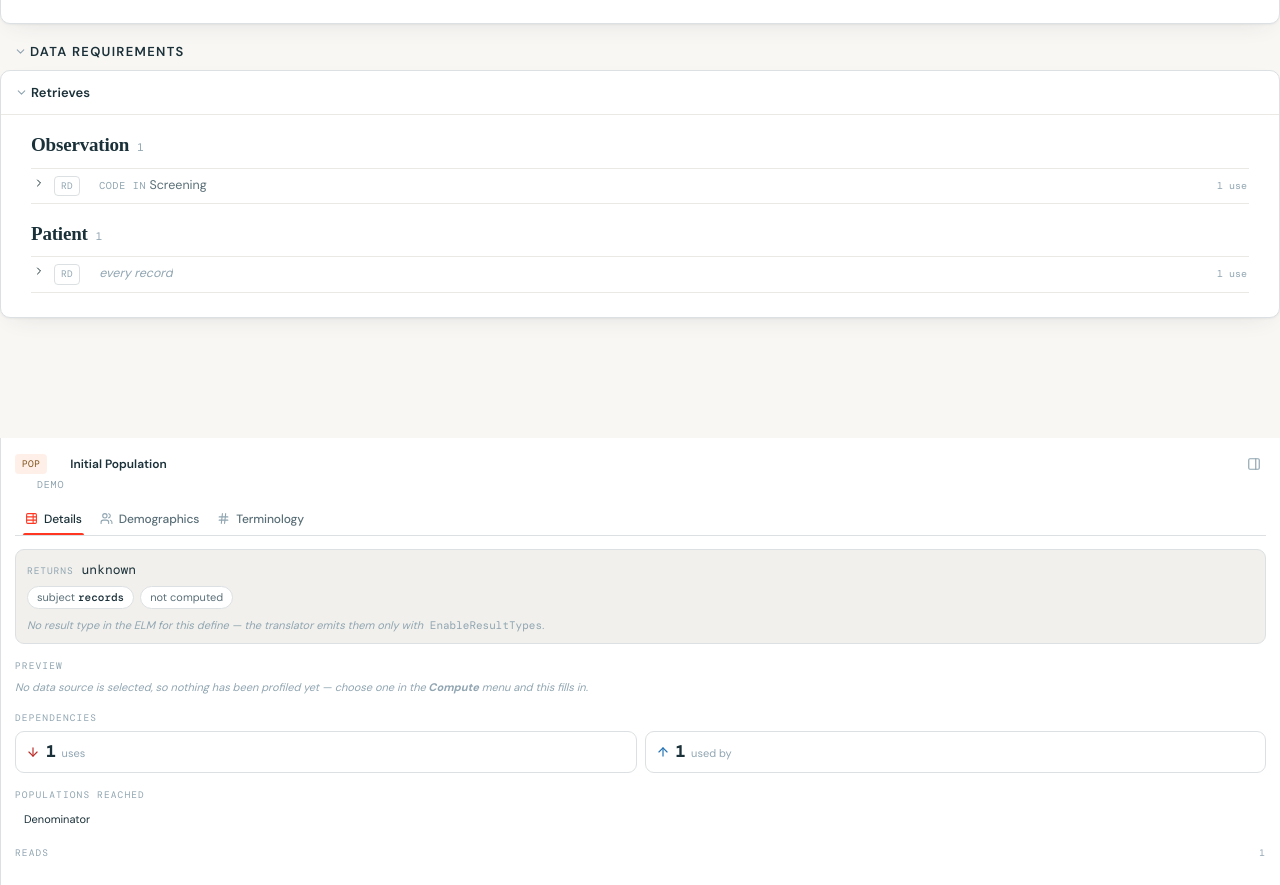
Test case: the lens's tab and the pane's tab are independent (SPEC-REF-LENS) › a freshly opened lens starts on Details however the pane is set
The width and height of the screenshot is (1280, 885).
(page scrolled)
Click the tab "Terminology" at (261, 520), box [209,505,312,535]
(page scrolled)
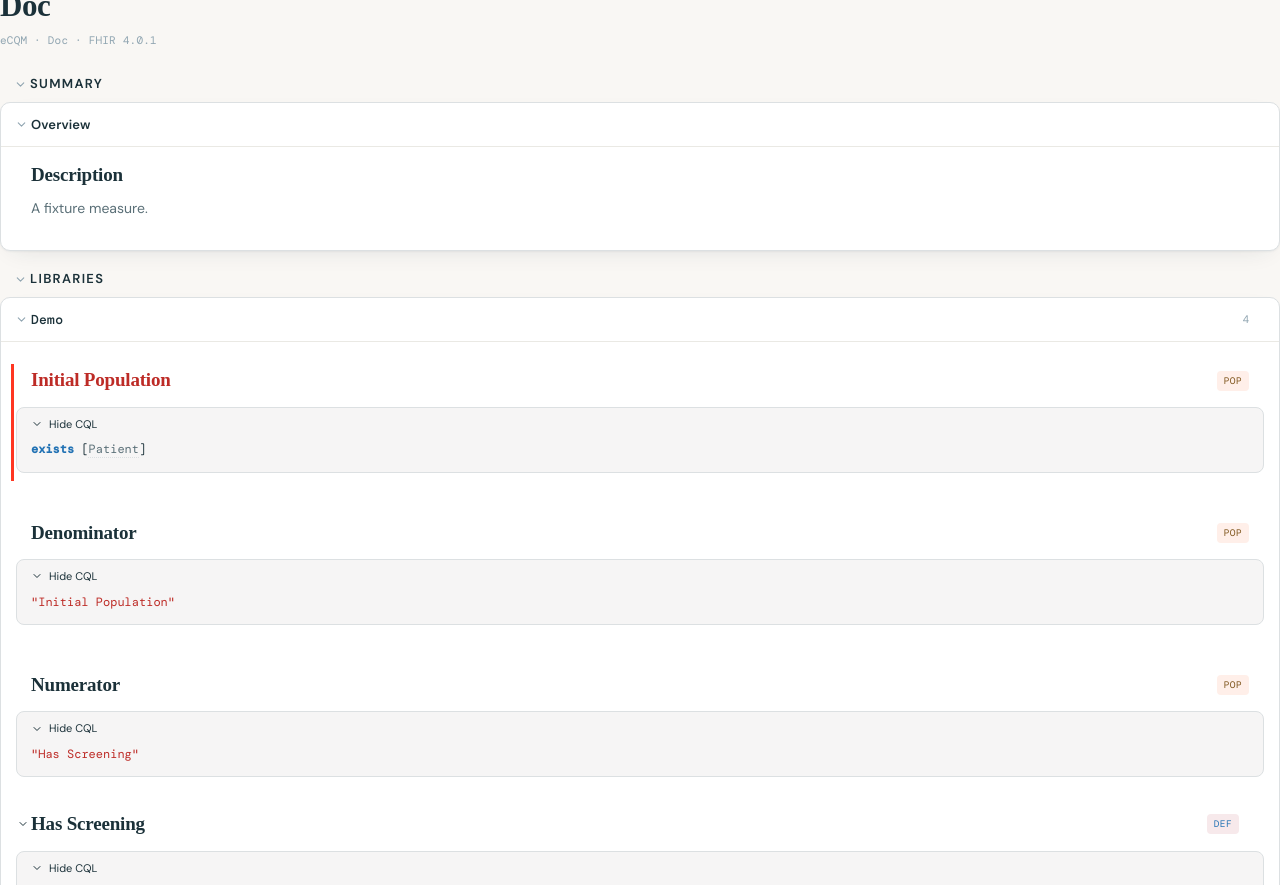
Expected: the list item "pop Initial Population Hide CQL exists [ Patient ]" is shown, [17,356,1263,489]
Click the button "Patient" at (114, 450), box [89,440,139,460]
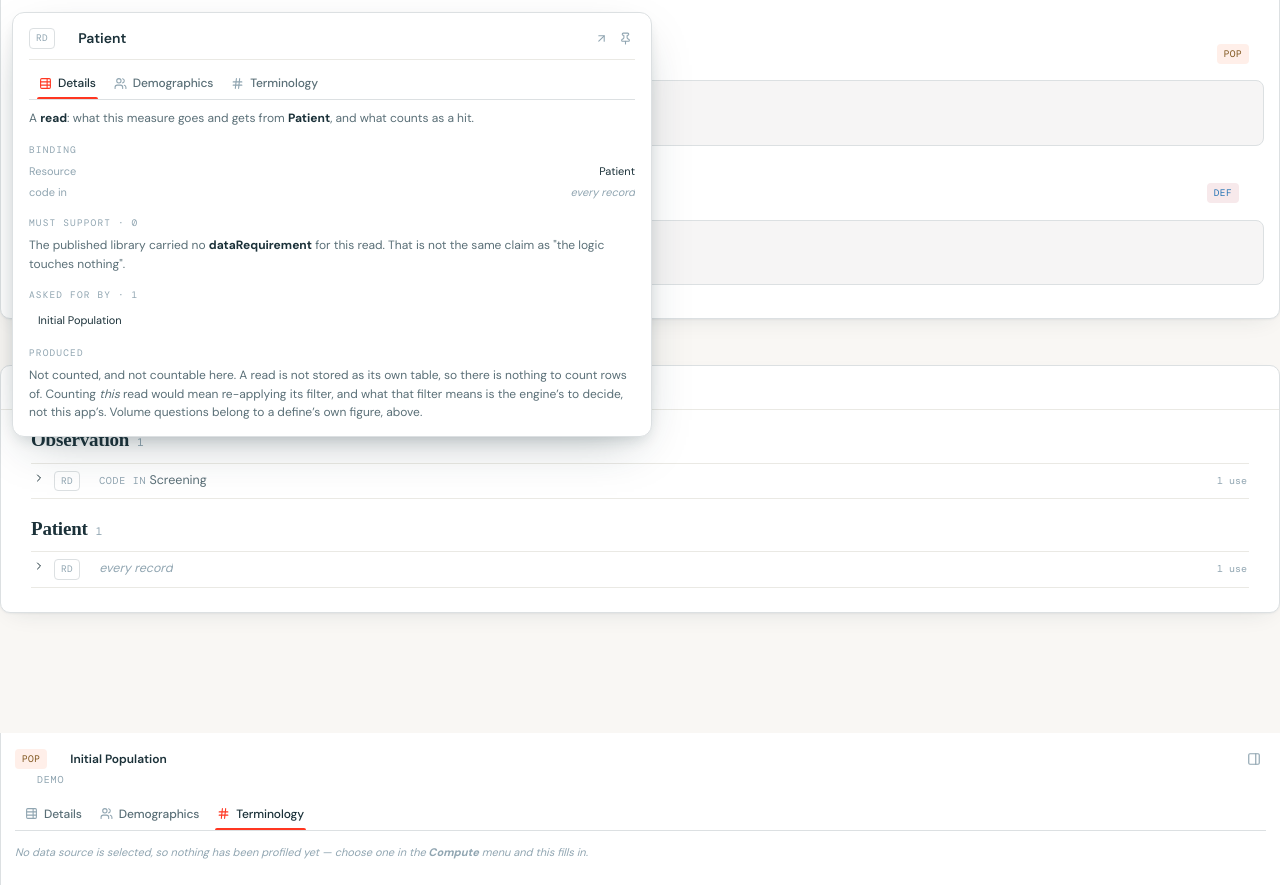
Expected: the 2nd tab "Details" is shown, [17,800,90,830]
Expected: the 2nd tab "Terminology" is shown, [209,800,312,830]
